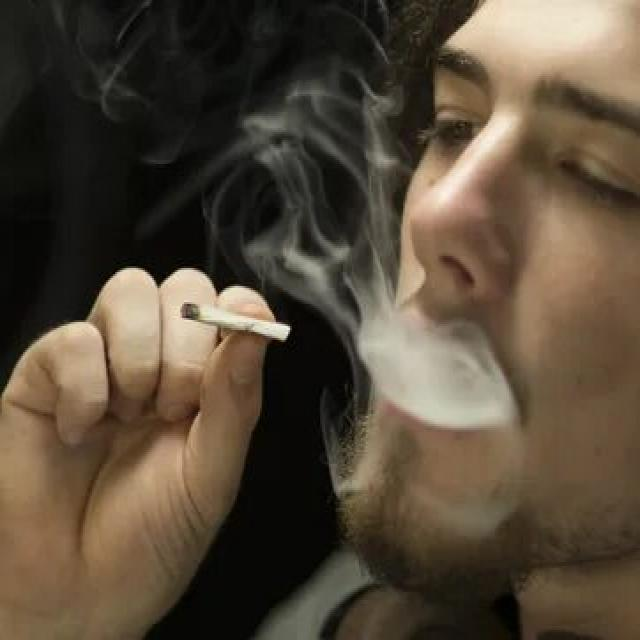cigarette: (180, 294, 294, 346)
